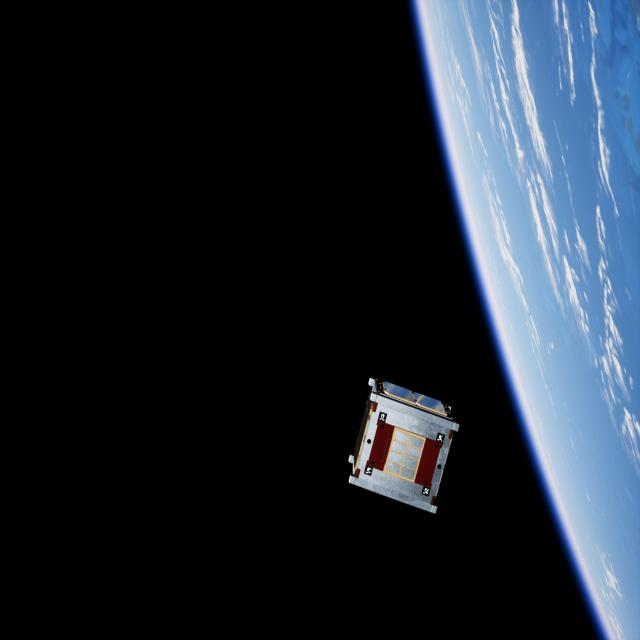medium_debris: (340, 376, 461, 516)
